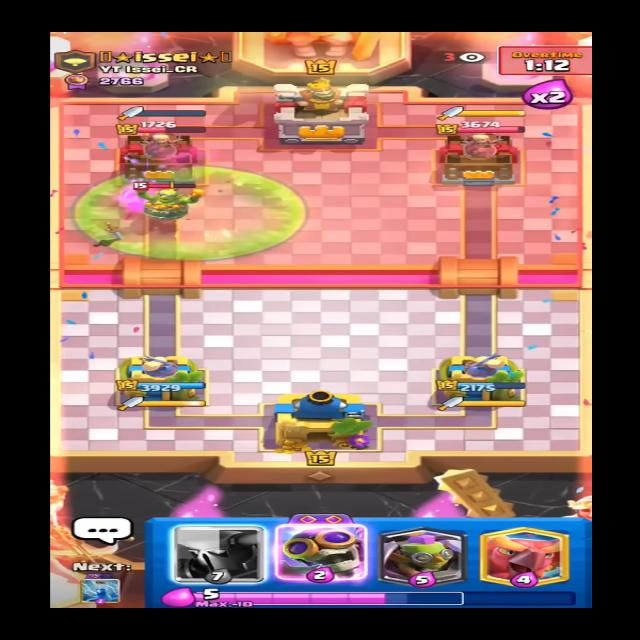goblin-demolisher: (124, 174, 201, 222)
